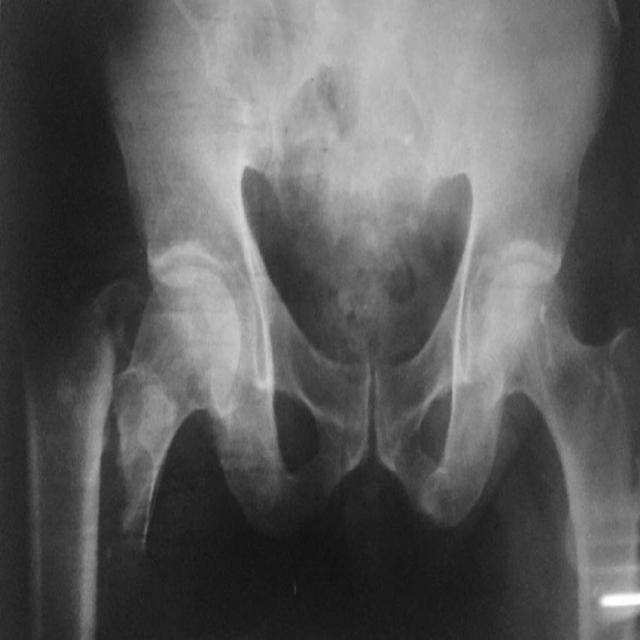normal-left: (483, 262, 640, 640)
right-intertrochanteric: (113, 264, 242, 555), (21, 329, 116, 640)
